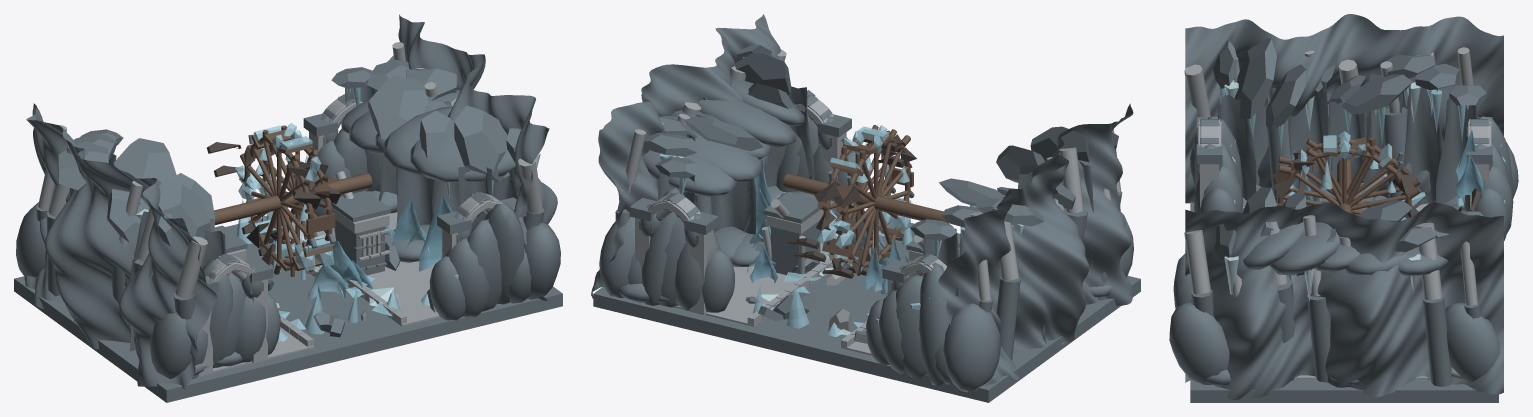
The model's file is b2-frozen-waterwheel-courtyard.glb.
3 views of the same model, side by side, from view 1: azimuth 30°, elevation 25°; view 2: azimuth 150°, elevation 25°; view 3: azimuth 270°, elevation 25° (orthographic).
Visible parts, largest first — view 1: B2 Frozen Ancient Waterwheel Courtyard; view 2: B2 Frozen Ancient Waterwheel Courtyard; view 3: B2 Frozen Ancient Waterwheel Courtyard.
Part boxes in pixels (box(x1,y1,x2,y2)): B2 Frozen Ancient Waterwheel Courtyard: box(14, 14, 562, 402); B2 Frozen Ancient Waterwheel Courtyard: box(591, 14, 1140, 402); B2 Frozen Ancient Waterwheel Courtyard: box(1169, 14, 1518, 402).
Bounding box in the file's own units: 21.4 × 8.17 × 13.58.
